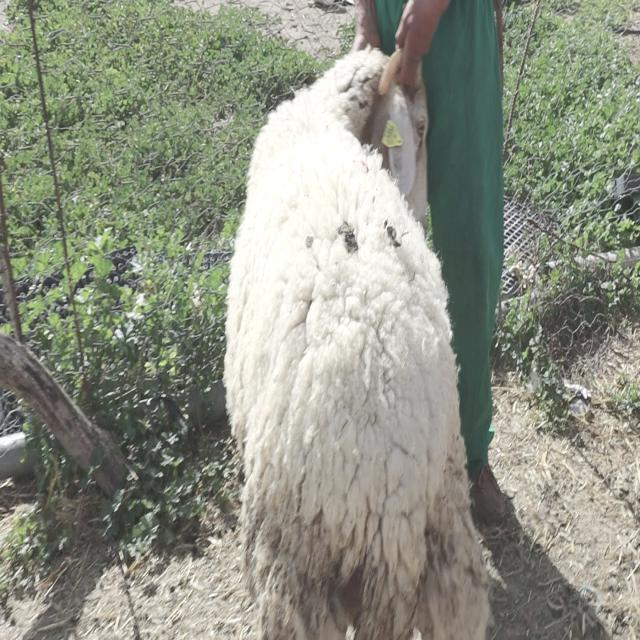Score_4: (223, 49, 488, 639)
